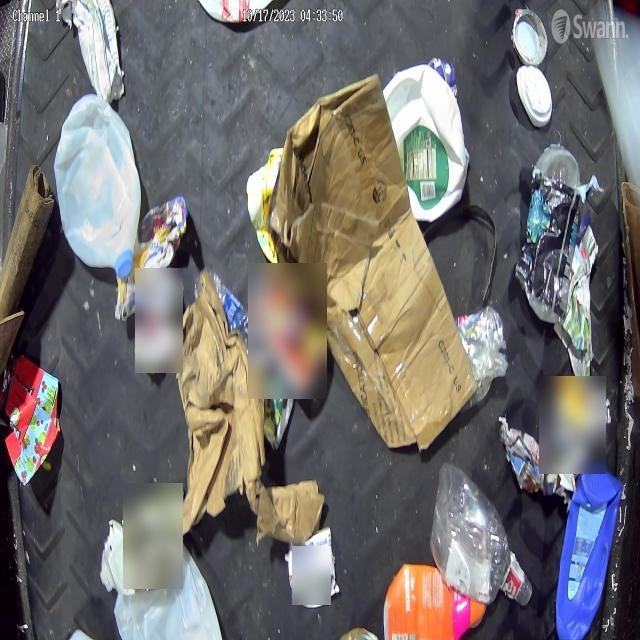milk_jug: (56, 96, 142, 270), (383, 64, 468, 222), (114, 542, 224, 640)
non_white_jug: (556, 464, 624, 640)
